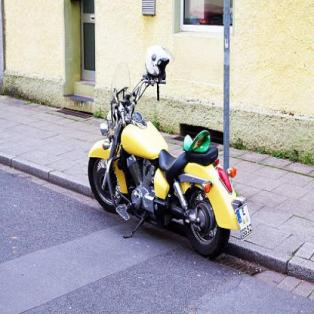Motocicleta: (85, 54, 255, 256)
